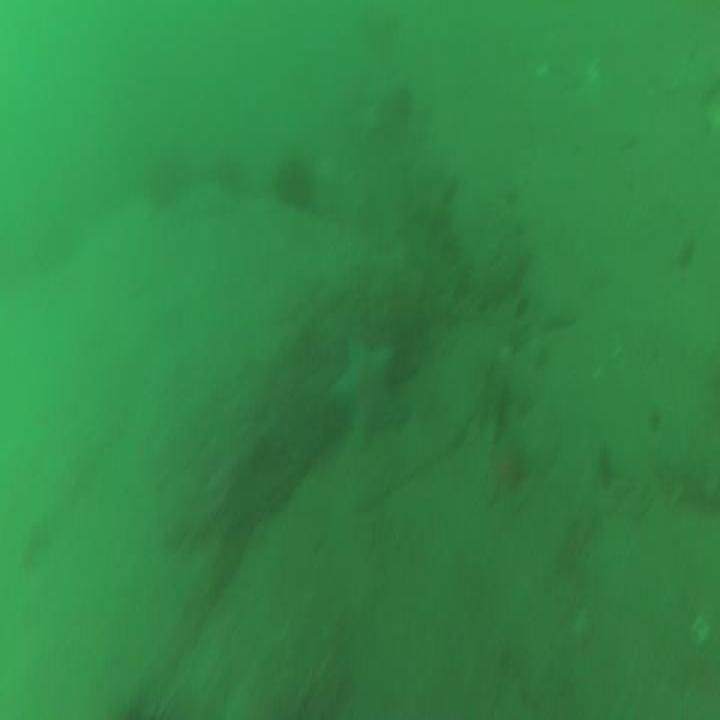echinus: (277, 158, 310, 206)
starfish: (330, 345, 405, 446), (488, 425, 524, 501)
